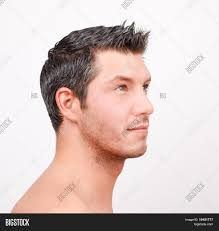white_male: (79, 71, 158, 148)
